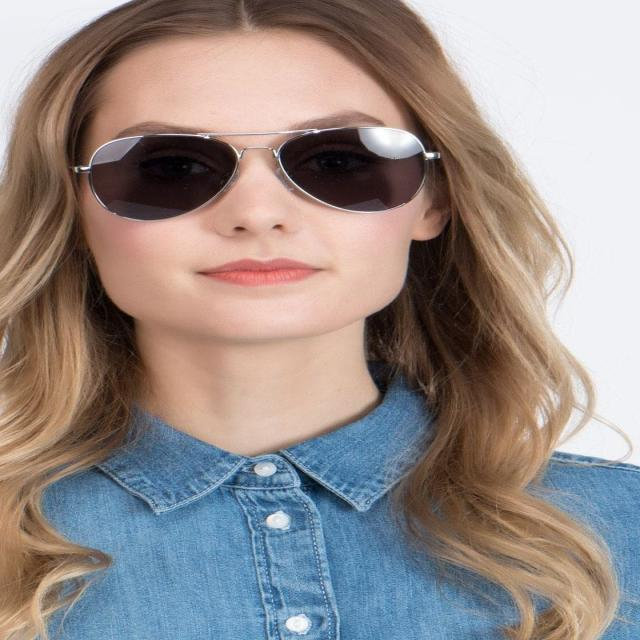2_gafas: (70, 125, 442, 222)
